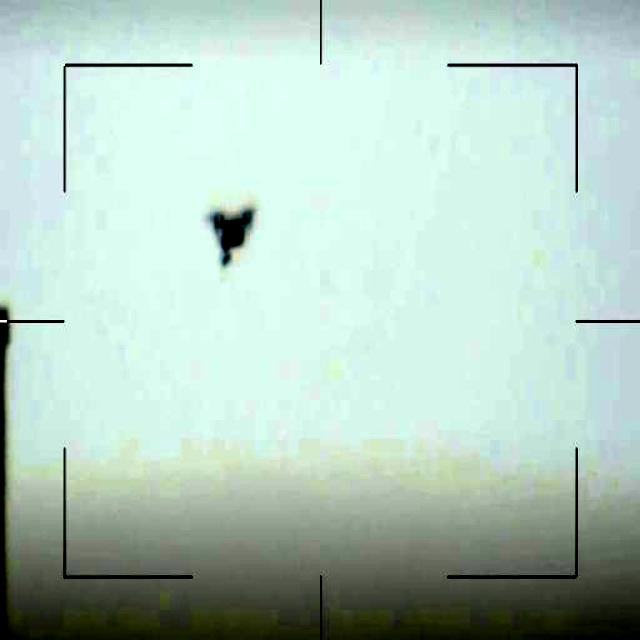bird: (206, 204, 261, 272)
